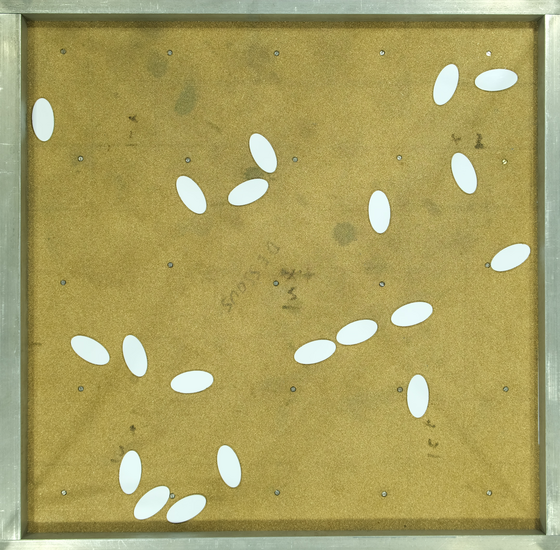pallet: (474, 58, 518, 100), (128, 483, 172, 525), (289, 331, 333, 373), (165, 488, 209, 530), (335, 310, 379, 352), (388, 294, 432, 336), (488, 239, 532, 281), (169, 361, 213, 403), (171, 173, 212, 216), (109, 450, 150, 493), (207, 445, 248, 488), (68, 330, 109, 373), (114, 333, 155, 376), (443, 151, 484, 194), (356, 190, 397, 233), (423, 63, 464, 106), (227, 171, 268, 214), (241, 132, 282, 175), (21, 97, 62, 140), (399, 370, 435, 418)
